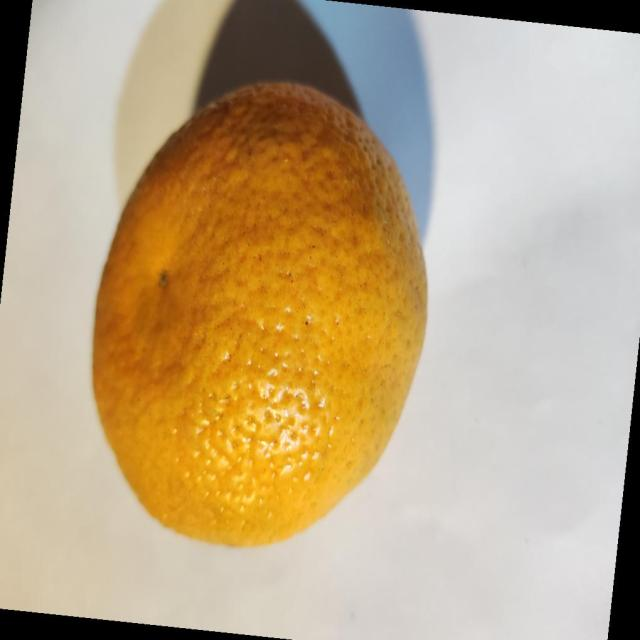fresh orange: (90, 79, 430, 548)
